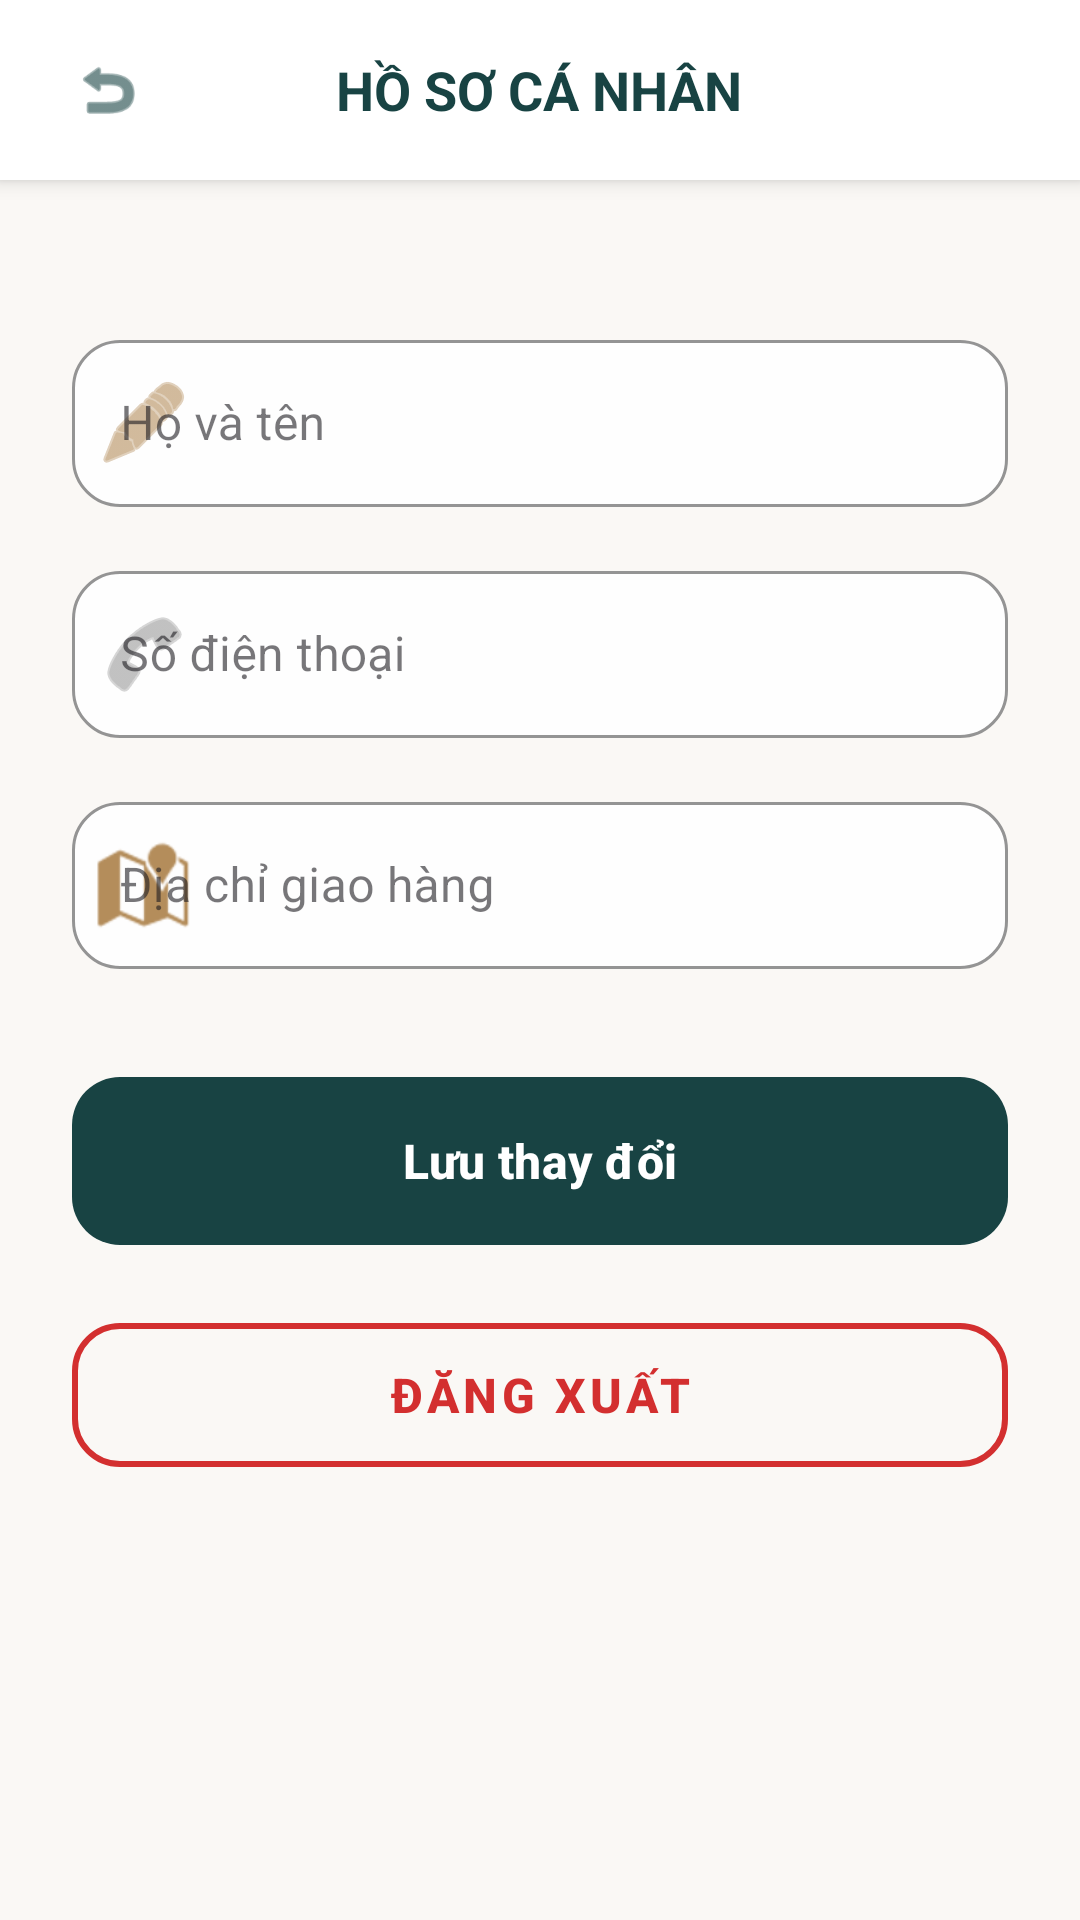

Icon bounding boxes for this 1080px x 1920px phone screenshot, format (left=x1, top=y1, right=x2, bottom=y2):
revert: (left=83, top=67, right=135, bottom=114)
